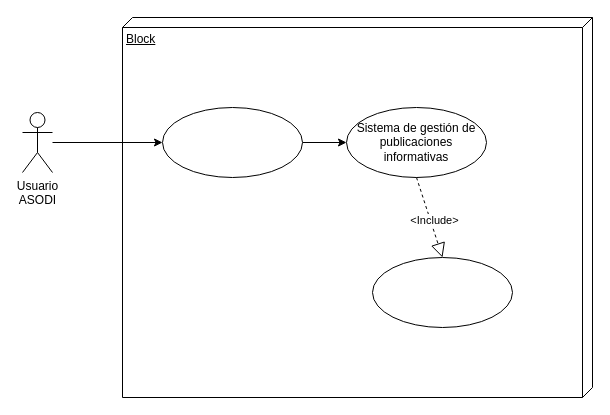
This 610x415 diagram has some shape labels left out. The centre of each missing label's shape, as x and y in pixels:
"Base de datos de publicaciones informativas" belongs at (442,292).
"Eliminar publicaciones del apartado informátivo" belongs at (232,142).
